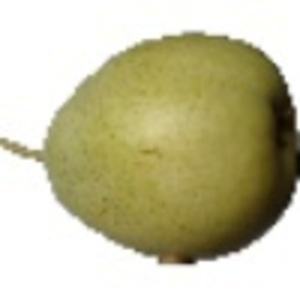pera: (1, 30, 300, 269)
